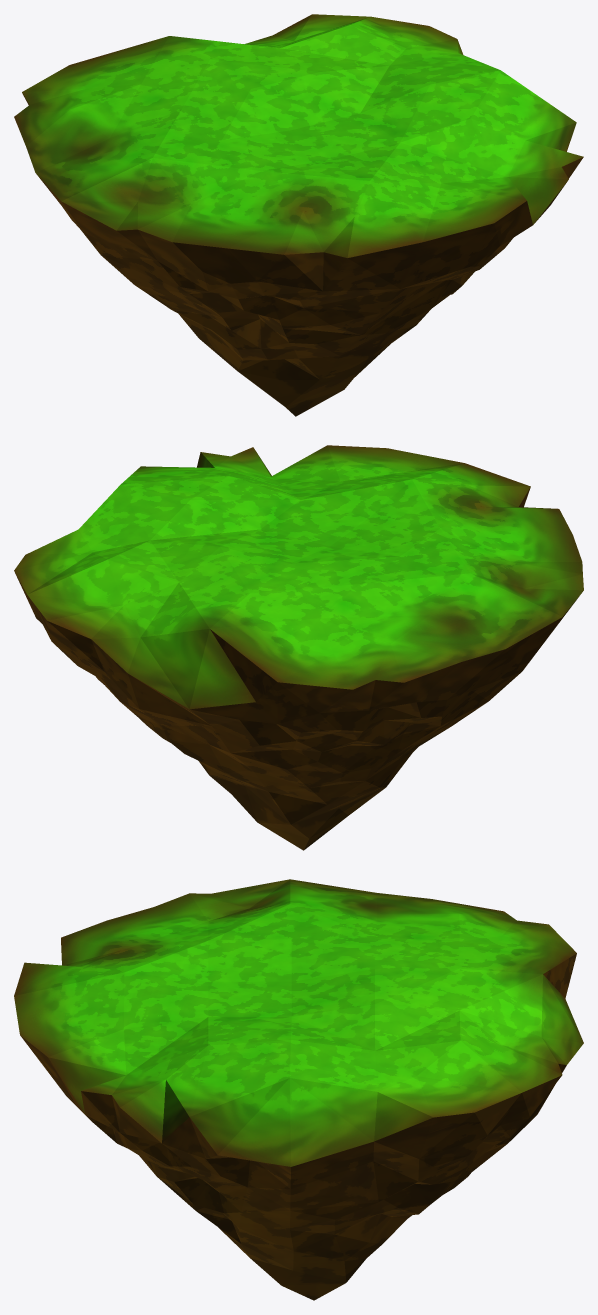
File: floating island1.fbx
3 views of the same model, one above another, from view 1: azimuth 30°, elevation 25°; view 2: azimuth 150°, elevation 25°; view 3: azimuth 270°, elevation 25° (orthographic). The views are drawn at different scales.
Visible parts, largest first — view 1: Cone.001; view 2: Cone.001; view 3: Cone.001.
Part boxes in pixels (x1=…): Cone.001: x1=14, y1=14, x2=583, y2=416; Cone.001: x1=14, y1=445, x2=583, y2=850; Cone.001: x1=14, y1=879, x2=583, y2=1300.
Bounding box in the file's own units: 1111 × 696 × 1111.
Materials: 1 (1 with a texture image).
